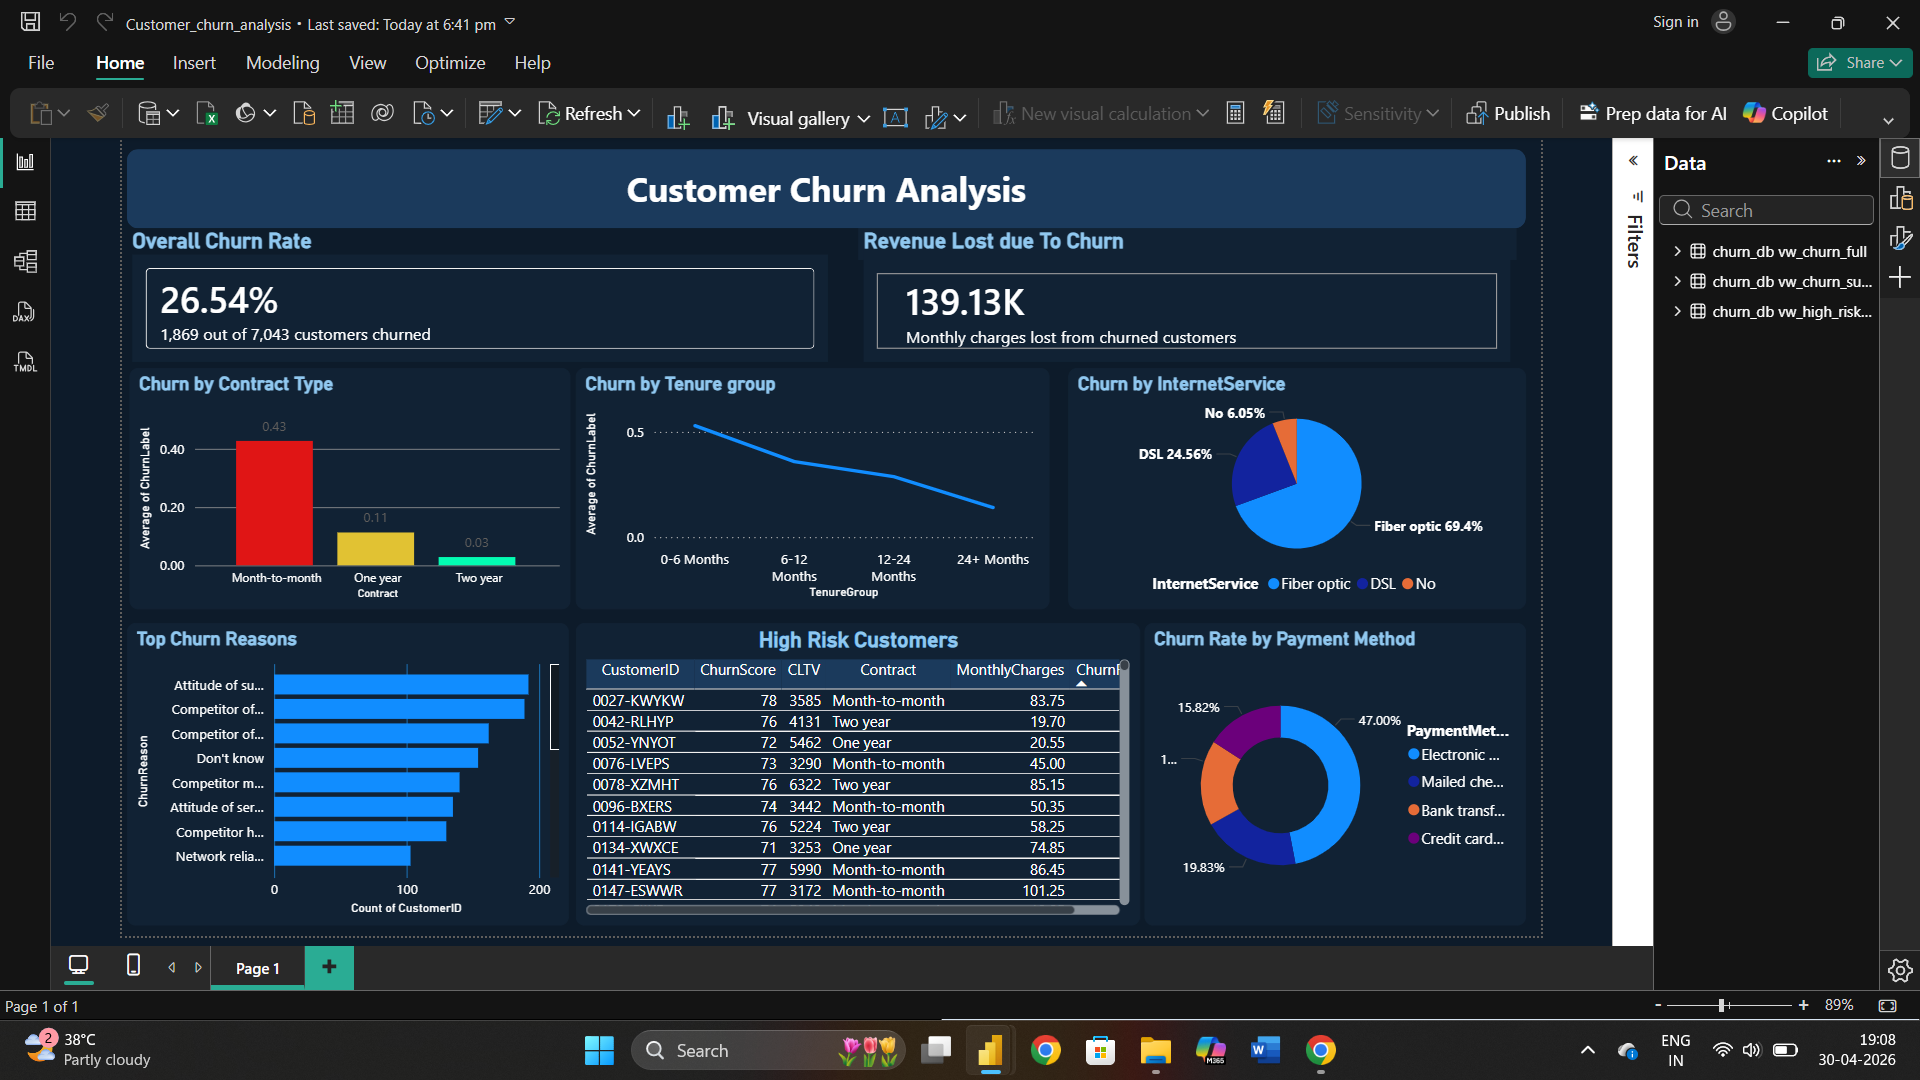

This screenshot's page, from the dashboard's own definition file:
{"tool":"powerbi","page":{"name":"Page 1","canvas":[1280,720],"ordinal":0},"visuals":[{"type":"cardVisual","title":"Overall Churn Rate","fields":{"Data":["Avg(churn_db vw_churn_full.ChurnLabel)"]},"box":[5,81.2,637.5,126.2],"z":0},{"type":"cardVisual","title":"Revenue Lost due To Churn","fields":{"Data":["Sum(churn_db vw_churn_full.MonthlyCharges)"]},"box":[663.8,81.2,593.8,126.2],"z":1000},{"type":"clusteredColumnChart","title":"Churn by Contract Type","fields":{"Category":["churn_db vw_churn_full.Contract"],"Y":["Avg(churn_db vw_churn_full.ChurnLabel)"]},"box":[6.2,207.5,397.5,217.5],"z":2000},{"type":"tableEx","title":"High Risk Customers","fields":{"Values":["churn_db vw_high_risk_customers.CustomerID","churn_db vw_high_risk_customers.ChurnScore","churn_db vw_high_risk_customers.CLTV","churn_db vw_high_risk_customers.Contract","churn_db vw_high_risk_customers.MonthlyCharges","churn_db vw_high_risk_customers.ChurnReason"]},"box":[408.8,437.5,508.8,272.5],"z":3000},{"type":"pieChart","title":" Churn by InternetService","fields":{"Category":["churn_db vw_churn_full.InternetService"],"Y":["Sum(churn_db vw_churn_full.ChurnLabel)"]},"box":[853.8,207.5,412.5,217.5],"z":4000},{"type":"lineChart","title":"Churn by Tenure group","fields":{"Y":["Avg(churn_db vw_churn_full.ChurnLabel)"],"Category":["churn_db vw_churn_full.TenureGroup"]},"box":[408.8,207.5,427.5,217.5],"z":5000},{"type":"donutChart","title":"Churn Rate by Payment Method","fields":{"Category":["churn_db vw_churn_full.PaymentMethod"],"Y":["Avg(churn_db vw_churn_full.ChurnLabel)"]},"box":[922.5,437.5,343.8,272.5],"z":6000},{"type":"clusteredBarChart","title":"Top Churn Reasons","fields":{"Category":["churn_db vw_churn_full.ChurnReason"],"Y":["CountNonNull(churn_db vw_churn_full.CustomerID)"]},"box":[5,437.5,398.8,272.5],"z":7000},{"type":"shape","box":[5,10,1261.2,71.2],"z":7001}]}

Visuals, with their boxes on the page's 1280x720 design canvas (x1, y1, x2, y2). These are canvas units, not pixel positions in the 1920x1080 screenshot, which may show the page scaled, cropped or inside an application window:
"Overall Churn Rate" cardVisual: select_region(5, 81, 642, 207)
"Revenue Lost due To Churn" cardVisual: select_region(664, 81, 1258, 207)
"Churn by Contract Type" clusteredColumnChart: select_region(6, 208, 404, 425)
"High Risk Customers" tableEx: select_region(409, 438, 918, 710)
" Churn by InternetService" pieChart: select_region(854, 208, 1266, 425)
"Churn by Tenure group" lineChart: select_region(409, 208, 836, 425)
"Churn Rate by Payment Method" donutChart: select_region(922, 438, 1266, 710)
"Top Churn Reasons" clusteredBarChart: select_region(5, 438, 404, 710)
shape: select_region(5, 10, 1266, 81)
